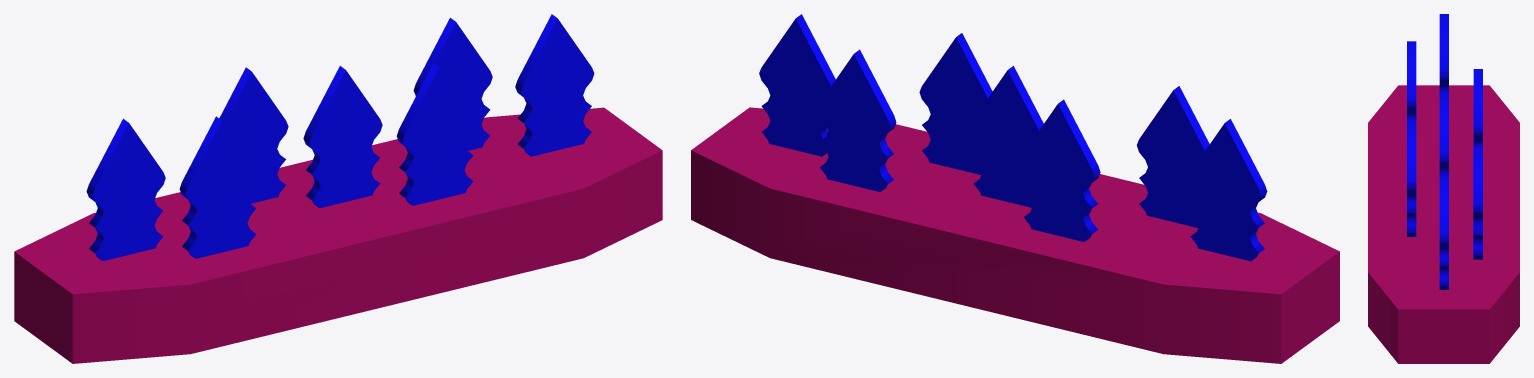
File: prot.FBX
The picture shows the model from 3 angles, left to right: view 1: azimuth 30°, elevation 25°; view 2: azimuth 150°, elevation 25°; view 3: azimuth 270°, elevation 25°; orthographic projection. The views are drawn at different scales.
Visible parts, largest first — view 1: Boîte002, Boîte001; view 2: Boîte002, Boîte001; view 3: Boîte002, Boîte001.
Part boxes in pixels (x1=…): Boîte002: x1=14, y1=107, x2=662, y2=363; Boîte001: x1=86, y1=14, x2=594, y2=260; Boîte002: x1=691, y1=107, x2=1339, y2=363; Boîte001: x1=759, y1=14, x2=1267, y2=261; Boîte002: x1=1368, y1=85, x2=1519, y2=363; Boîte001: x1=1407, y1=14, x2=1482, y2=289.
Size of the model in its own units: 93 by 30.35 by 26.58.
